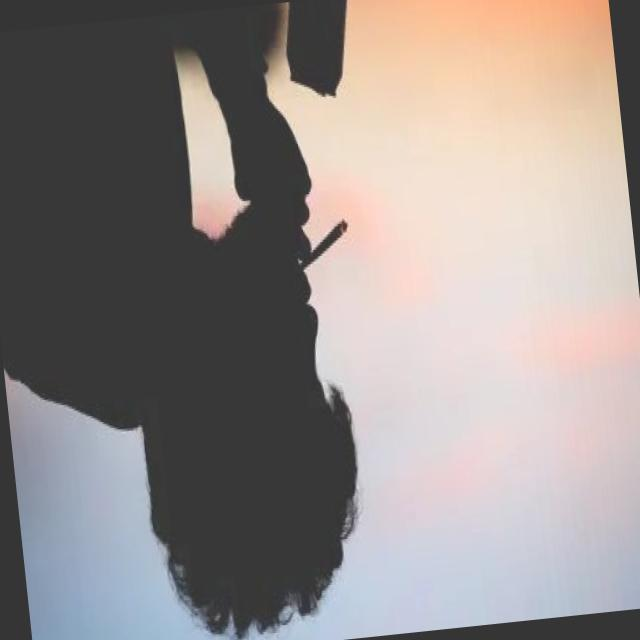smoke: (293, 214, 353, 282)
